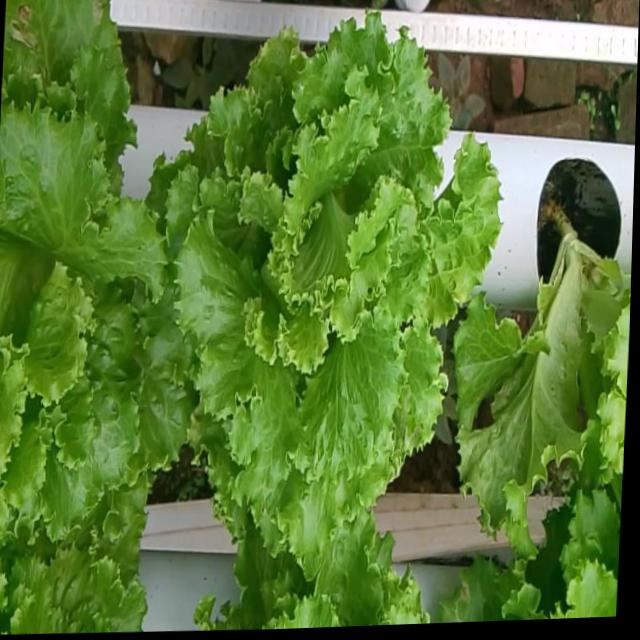Mature: (161, 7, 495, 548), (0, 90, 186, 532)
